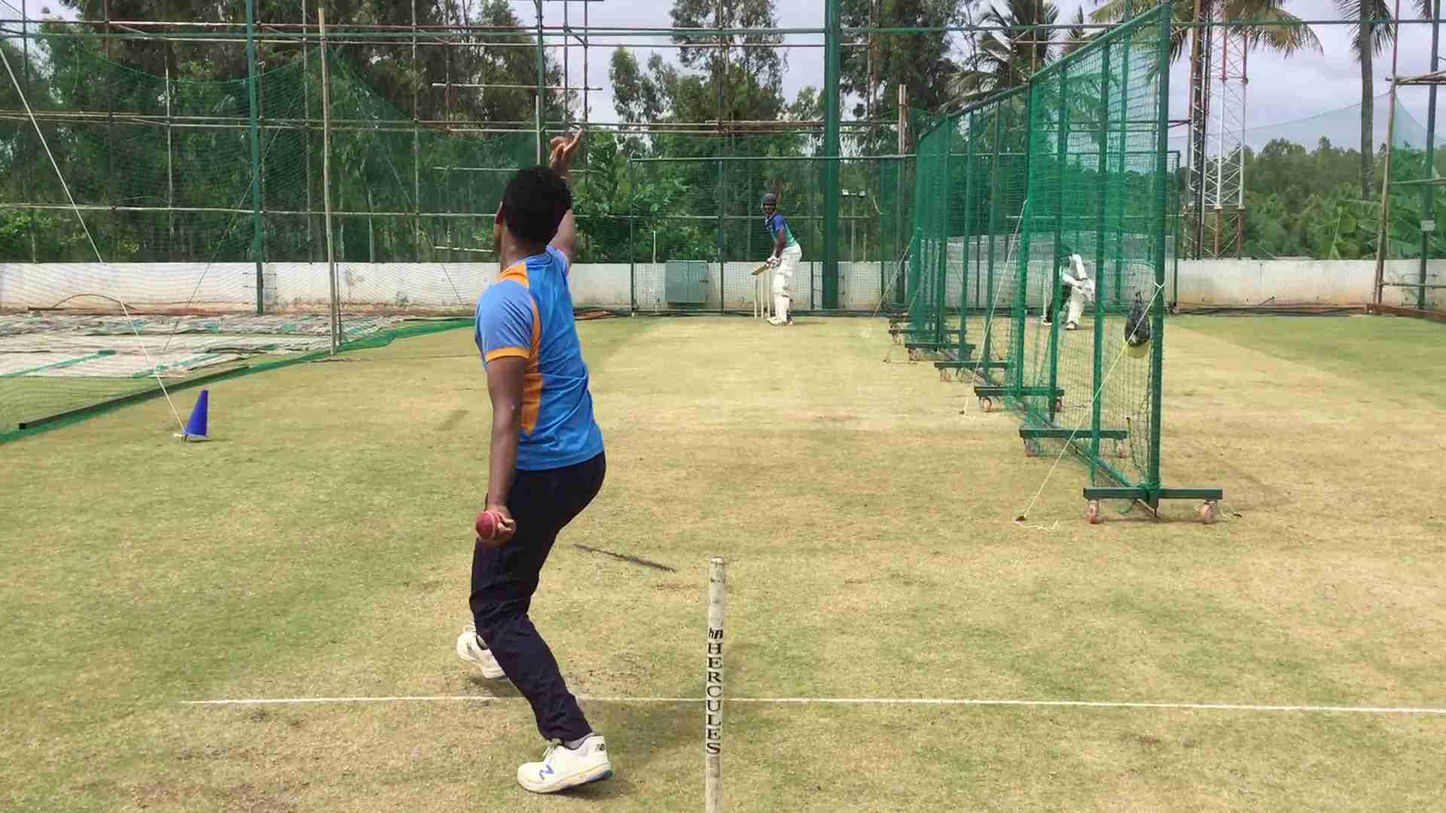batsman: (752, 186, 805, 329)
